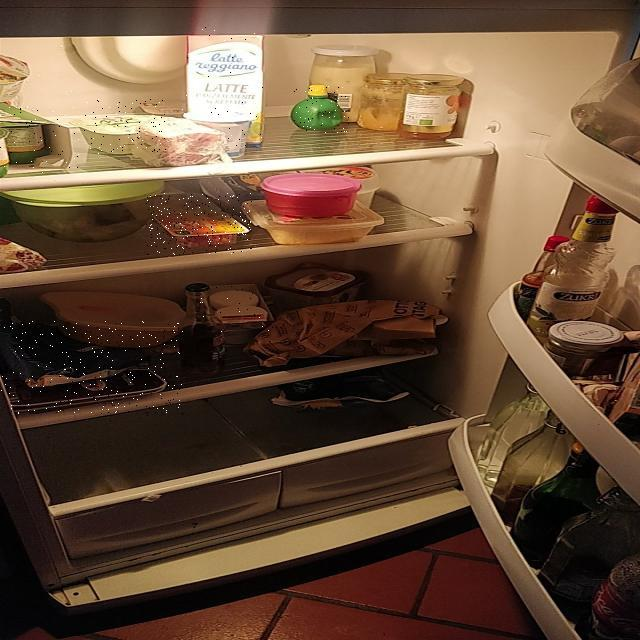bacon: (146, 193, 252, 255)
cheese: (198, 284, 276, 332)
ham: (0, 321, 183, 414)
lemon: (292, 86, 350, 133)
milk: (181, 27, 263, 146)
yoghurt: (0, 107, 81, 173), (84, 99, 166, 154)
